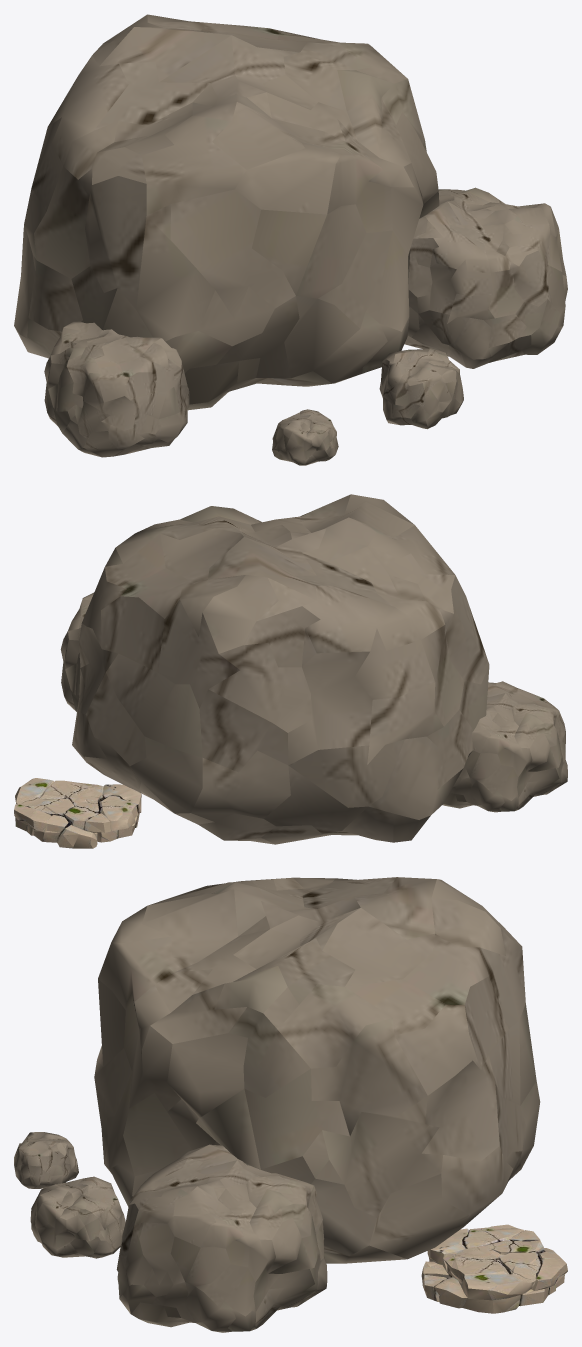
Rendered from BoulderCluster.lod1.glb.
The picture shows the model from 3 angles, top to bottom: view 1: azimuth 30°, elevation 25°; view 2: azimuth 150°, elevation 25°; view 3: azimuth 270°, elevation 25°; orthographic projection. The views are drawn at different scales.
Size of the model in its own units: 3.95 by 2.18 by 3.48.
2 materials, 2 textured.
